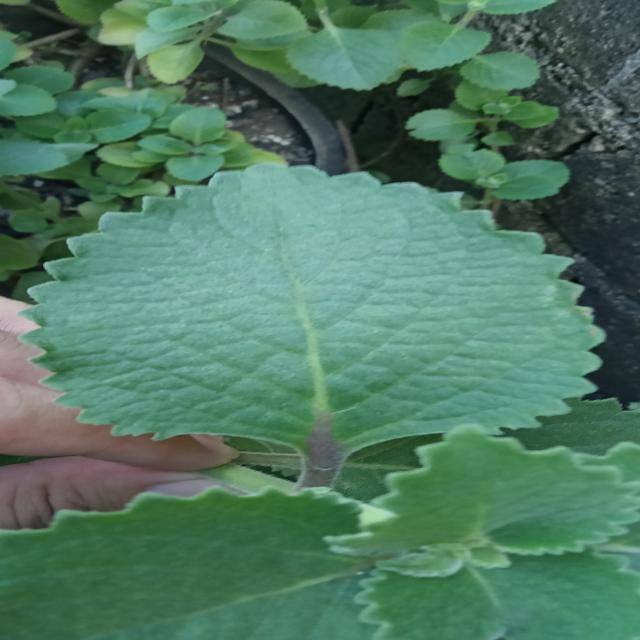Oregano: (4, 138, 640, 544)
